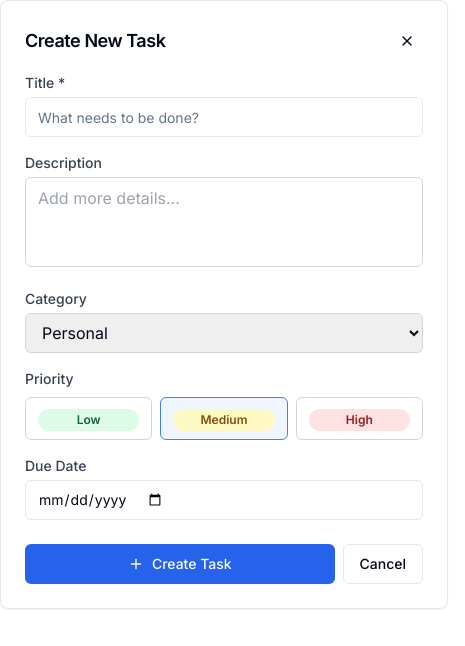
TaskForm Component › should validate required fields
Click the button "Create Task".
click(180, 564)  # box top-left (25, 544), bottom-right (334, 584)
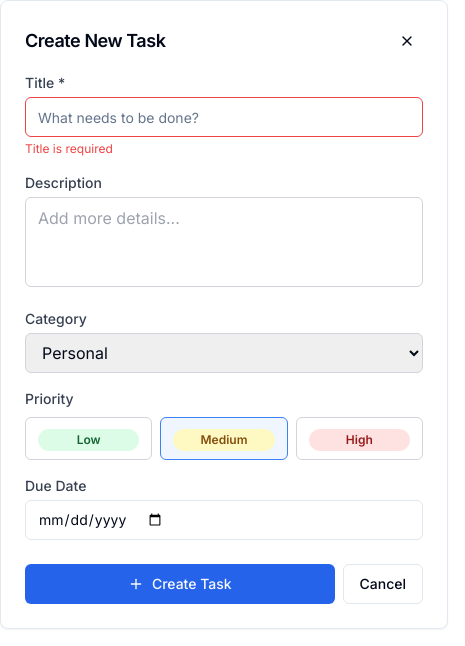
Now the text "Title is required" is shown, box top-left (25, 141), bottom-right (113, 156)
